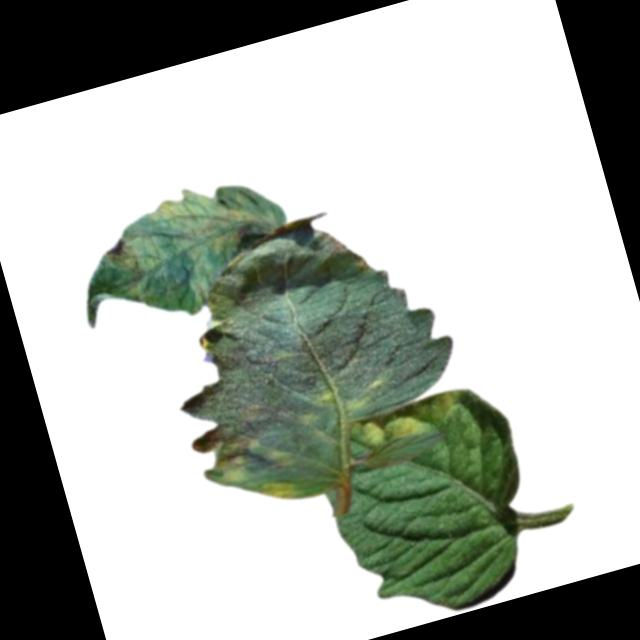Leaf_Mold: (154, 172, 274, 316), (189, 395, 292, 493), (348, 387, 469, 459), (98, 223, 170, 283), (257, 472, 300, 507)
